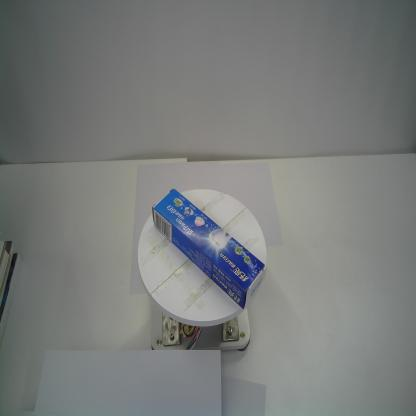Personal Hygiene: (153, 189, 266, 310)
